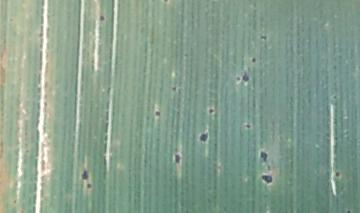tarspot: (257, 148, 273, 171), (259, 173, 277, 188), (195, 129, 213, 144), (242, 119, 255, 131), (152, 107, 163, 120), (173, 151, 183, 164), (241, 73, 251, 85), (333, 169, 343, 181), (206, 105, 216, 116), (79, 168, 90, 178), (97, 15, 108, 23), (331, 92, 340, 101), (259, 33, 267, 43), (343, 207, 356, 212), (235, 74, 242, 83), (86, 182, 93, 191), (251, 56, 257, 65), (171, 85, 177, 92), (163, 1, 169, 3)
